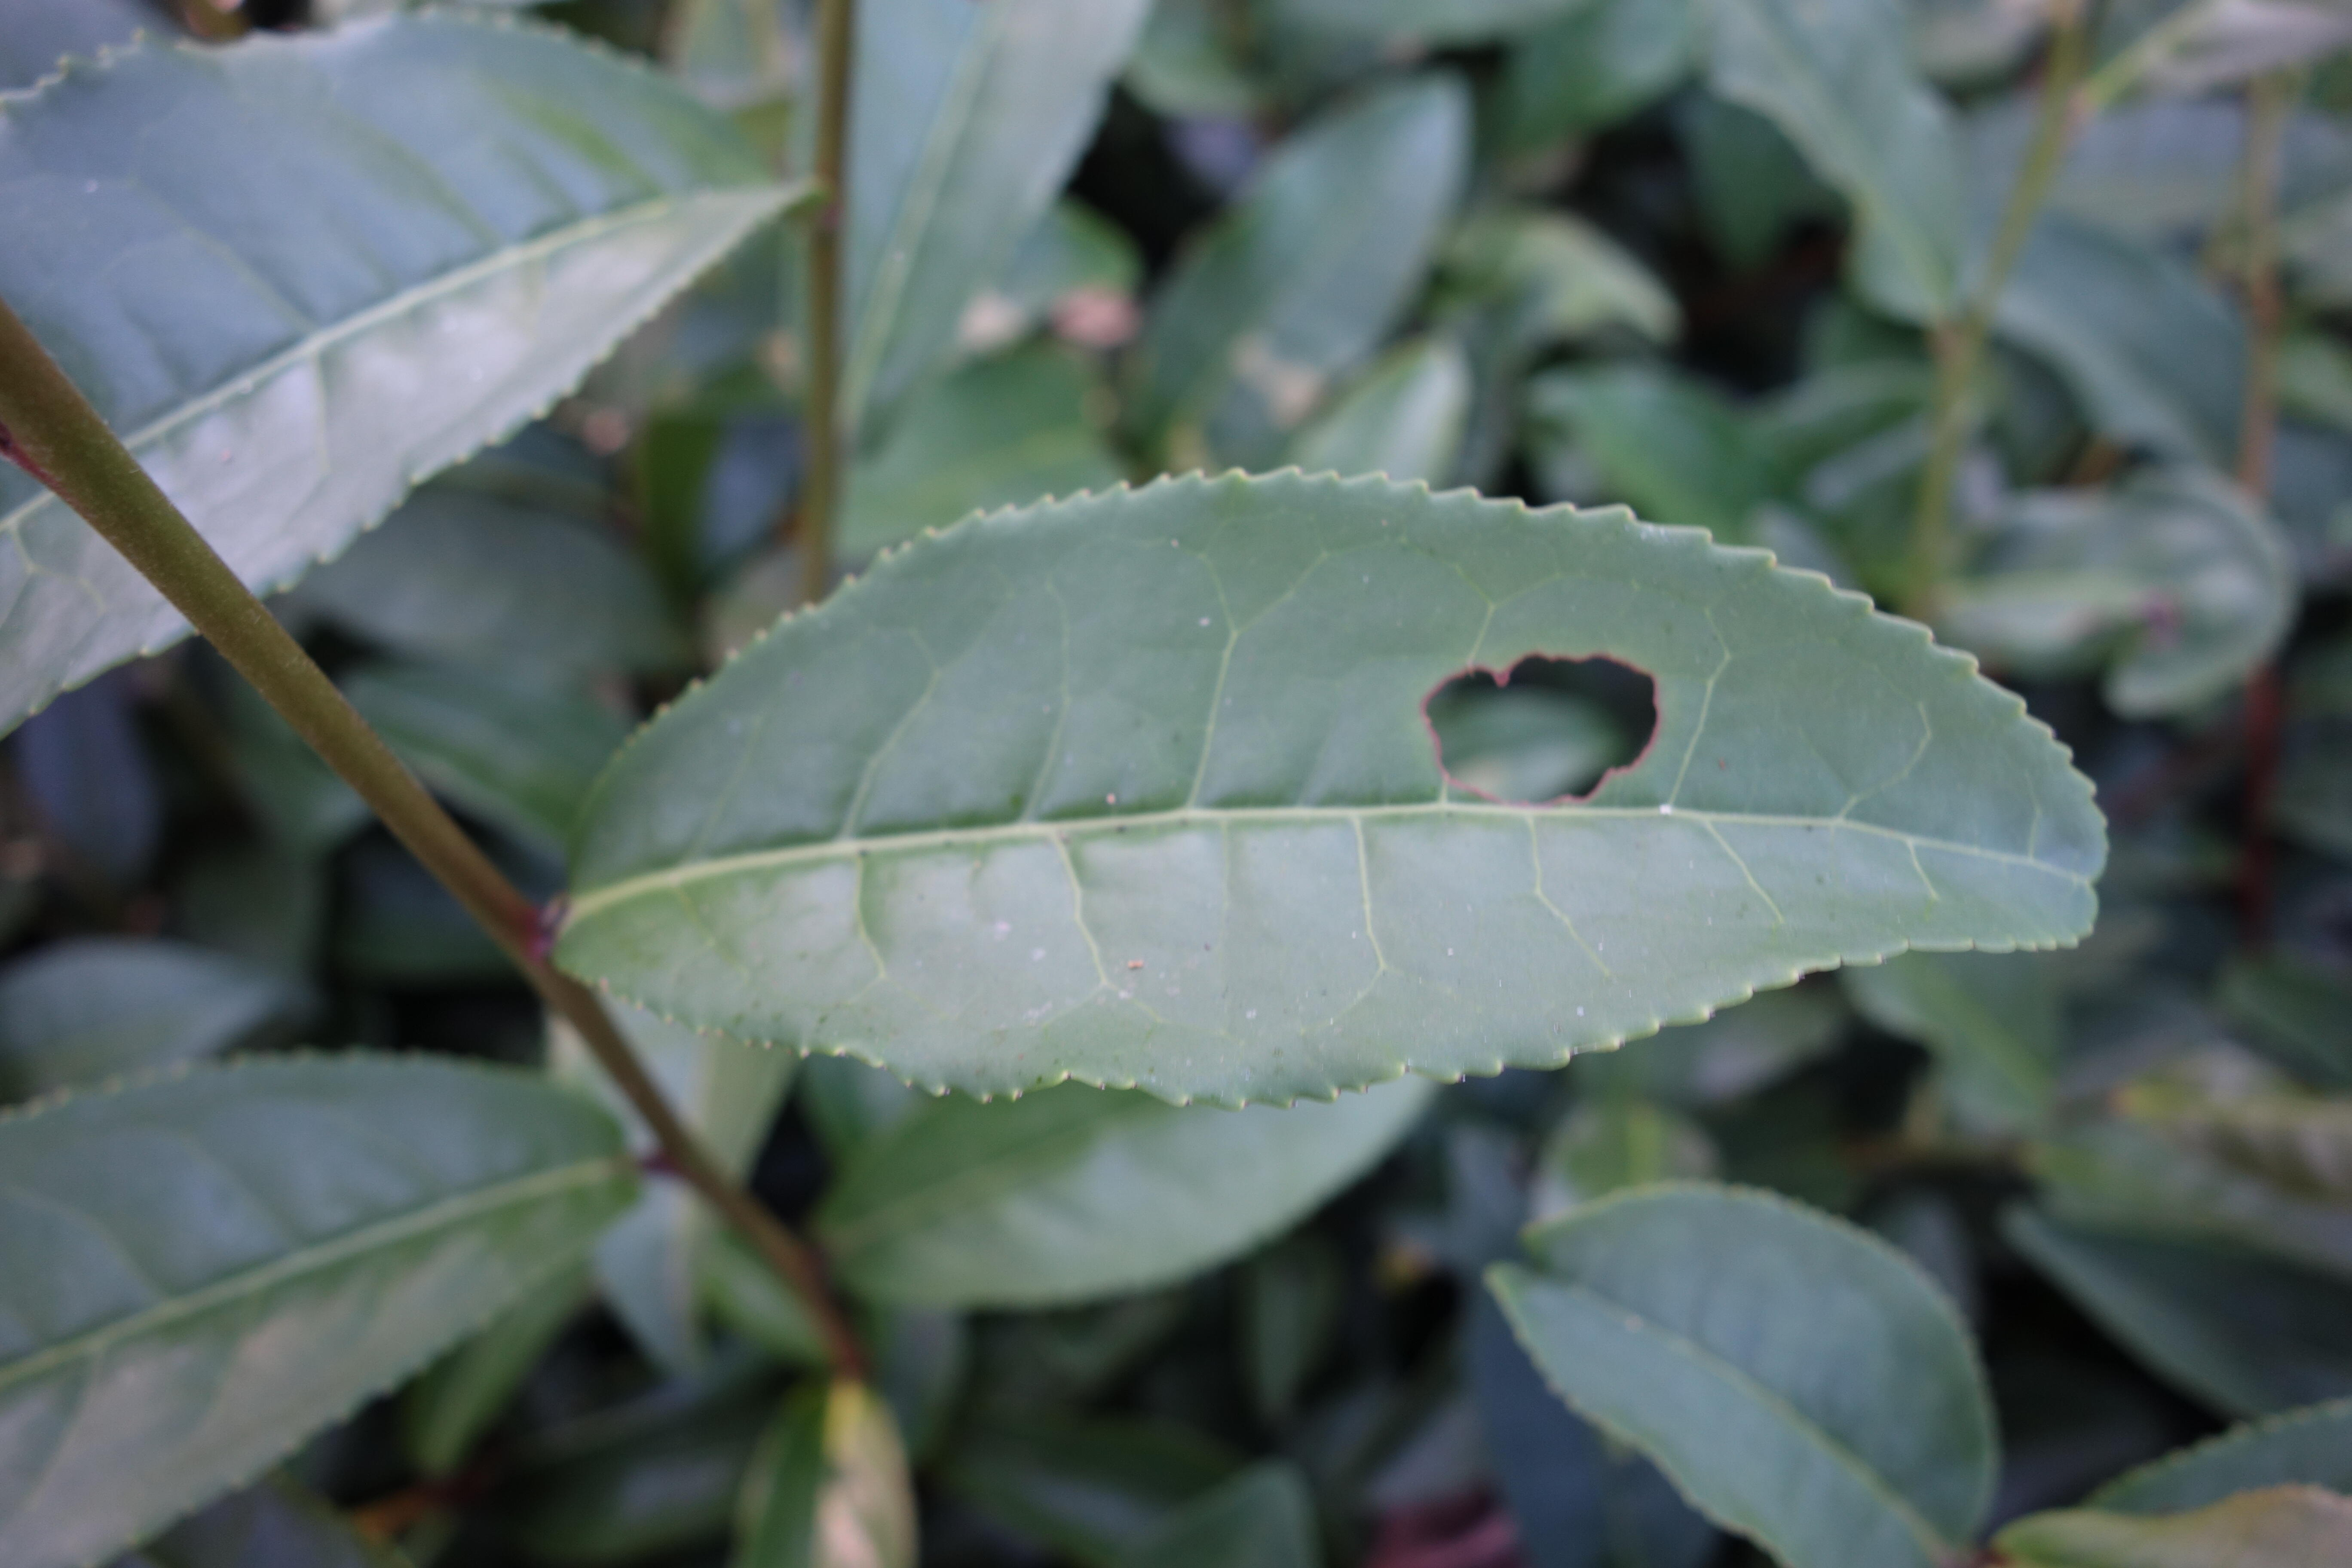chihuo_low: (551, 462, 2114, 1113)
